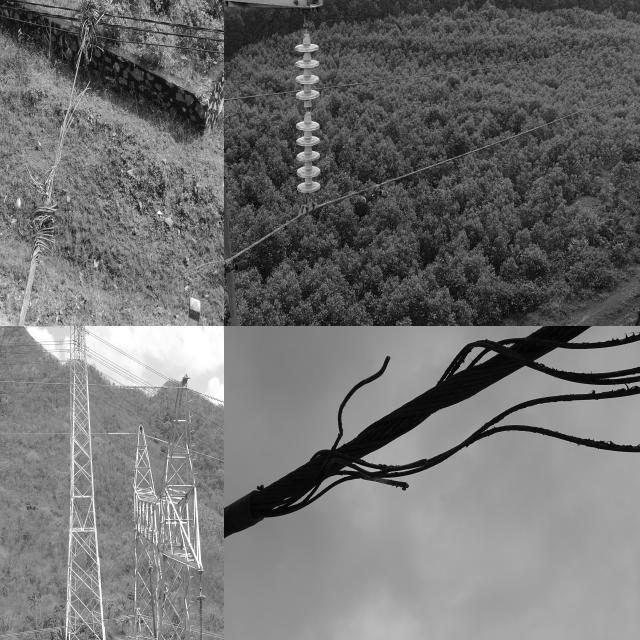杆塔: (224, 0, 325, 326), (125, 374, 208, 640), (55, 326, 117, 640)
正常电缆: (224, 73, 640, 275)
正常绝缘子: (292, 19, 323, 215), (145, 560, 163, 640), (195, 593, 208, 640)
电缆破损: (224, 326, 640, 559), (5, 0, 128, 275)
绝缘子破损: (302, 104, 313, 118)
